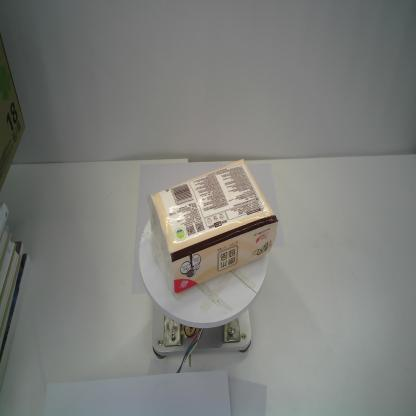Tissue: (146, 157, 280, 297)
